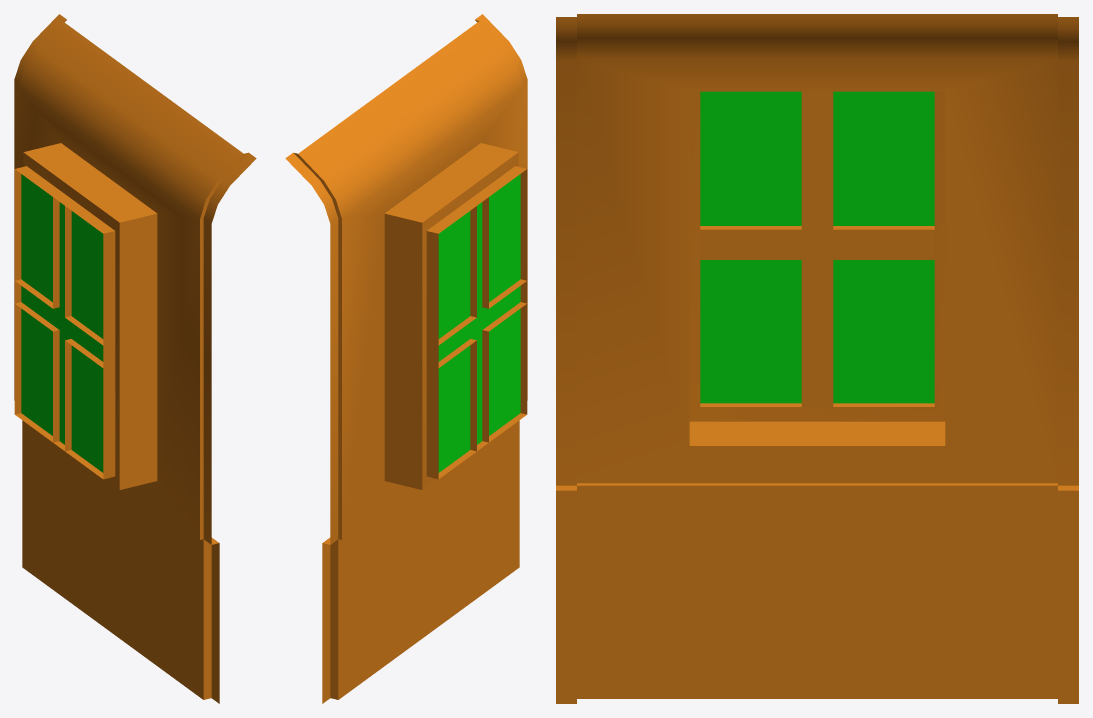
File: HotelMuurRaam.fbx
3 renders of one model, left to right at view 1: azimuth 30°, elevation 25°; view 2: azimuth 150°, elevation 25°; view 3: azimuth 270°, elevation 25°, orthographic. The views are drawn at different scales.
Parts seen in each view (by area): view 1: MuurRaam; view 2: MuurRaam; view 3: MuurRaam.
Part boxes in pixels (x1,y1,x2,y2): MuurRaam: [14, 14, 256, 703]; MuurRaam: [285, 14, 527, 703]; MuurRaam: [556, 14, 1078, 703].
Size of the model in its own units: 57.97 by 300 by 200.
